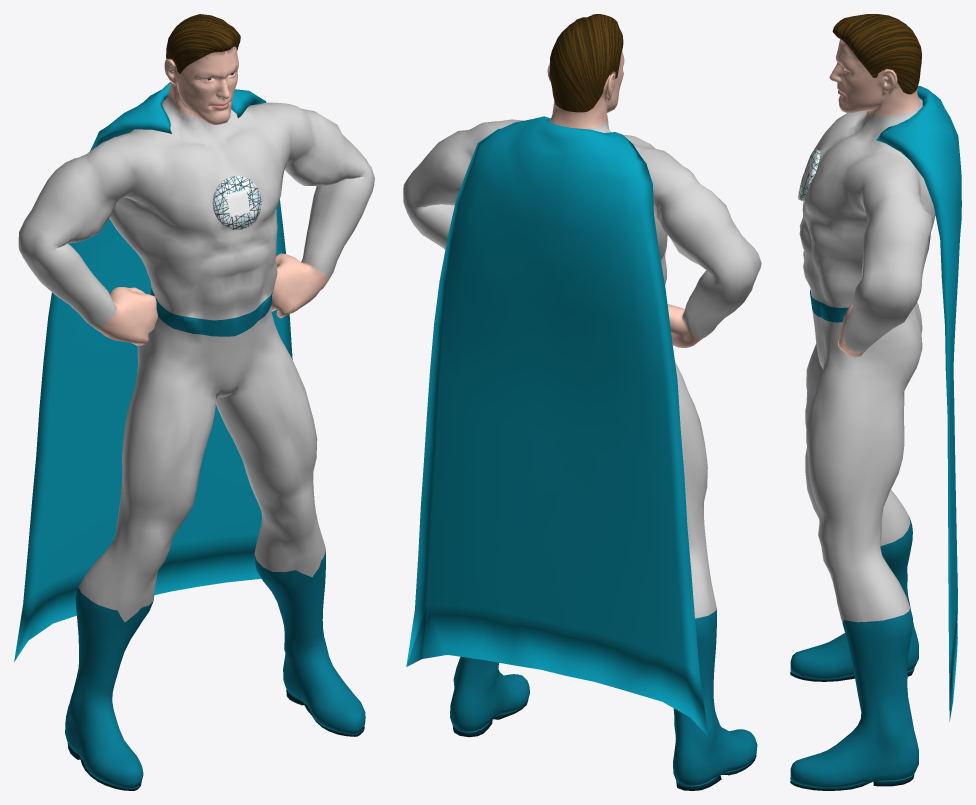
The model's file is superopenmaterialsshadeswraphair.fbx.
The picture shows the model from 3 angles, left to right: view 1: azimuth 30°, elevation 25°; view 2: azimuth 150°, elevation 25°; view 3: azimuth 270°, elevation 25°; orthographic projection. The views are drawn at different scales.
Visible parts, largest first — view 1: SuperMan; view 2: SuperMan; view 3: SuperMan.
Part boxes in pixels (x1,y1,x2,y2): SuperMan: [14, 14, 374, 790]; SuperMan: [403, 14, 761, 790]; SuperMan: [790, 14, 961, 790].
Bounding box in the file's own units: 39.56 × 78.7 × 17.2.
